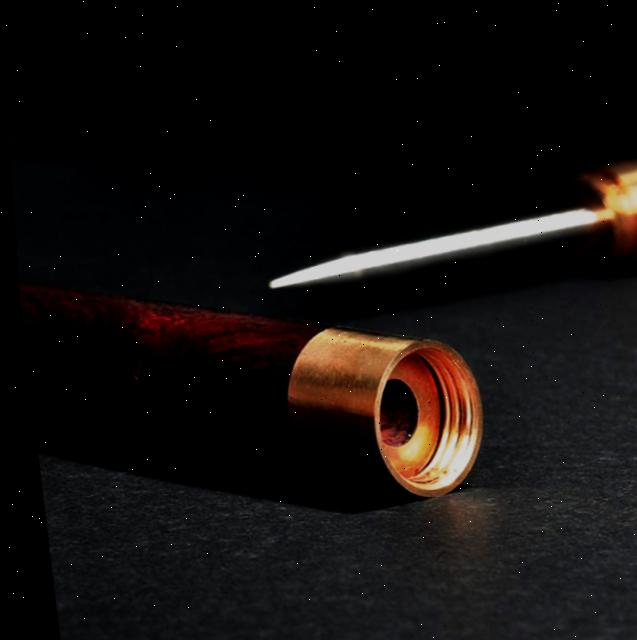ice pick: (13, 256, 489, 519), (250, 141, 637, 302)
